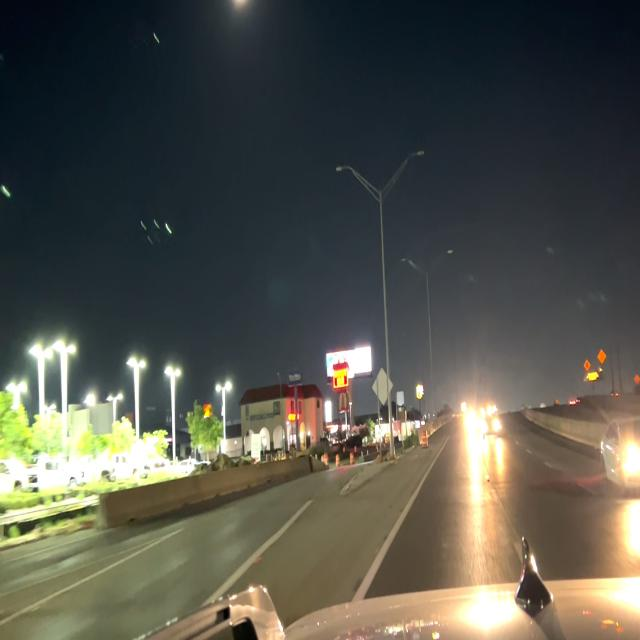back-of-sign: (373, 366, 392, 404)
